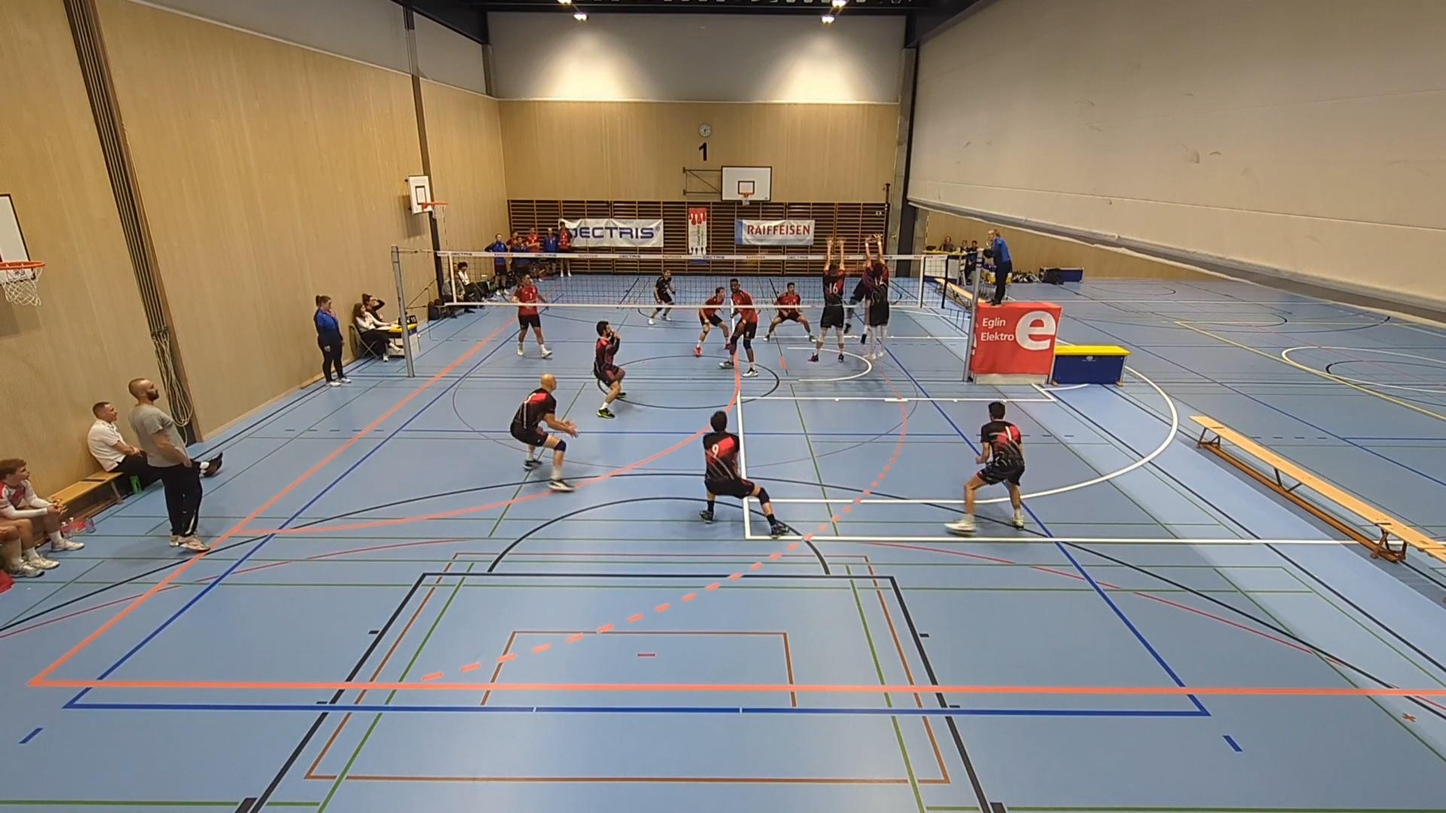Attack: (846, 257, 871, 346)
Block: (813, 233, 847, 369), (861, 230, 891, 365)
Player: (700, 411, 789, 537), (946, 402, 1024, 534), (510, 374, 577, 491), (719, 278, 757, 376), (511, 273, 551, 358), (593, 321, 624, 418), (764, 282, 813, 340), (694, 286, 728, 356), (648, 269, 675, 324)
